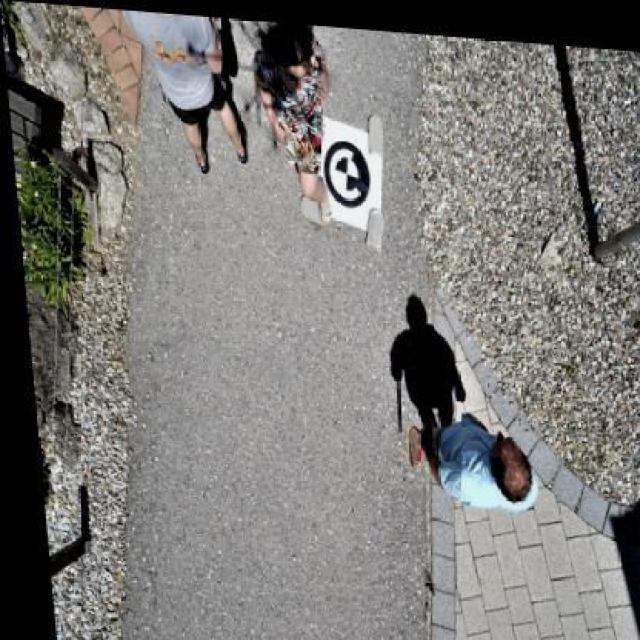Person: (111, 8, 252, 175), (250, 16, 344, 198), (411, 410, 540, 512)
